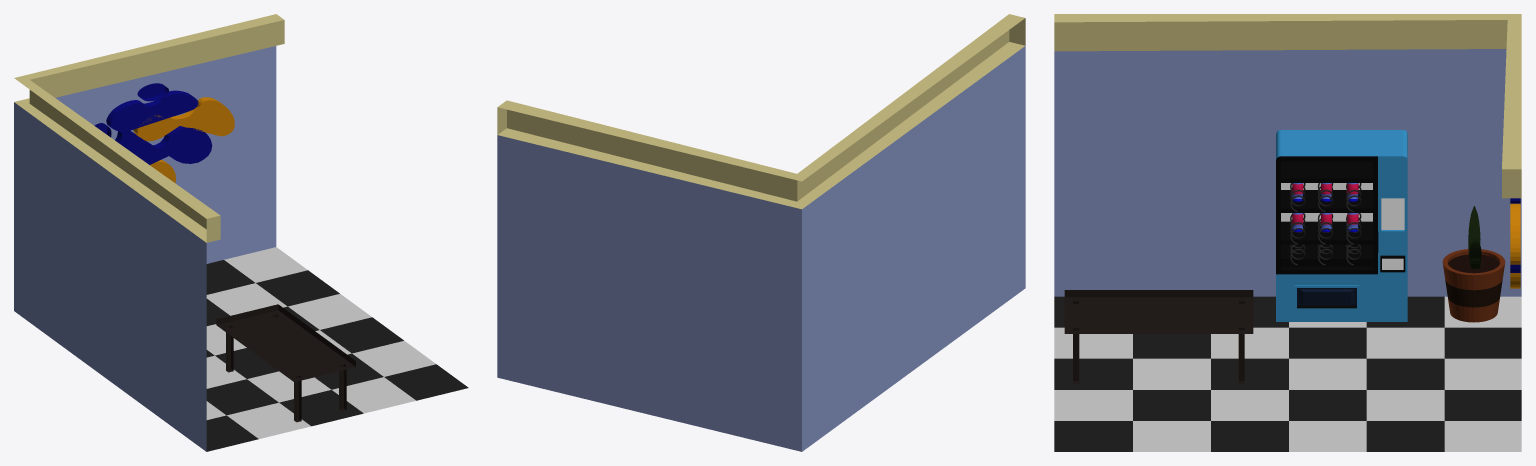
File: Allanim0016.obj
3 renders of one model, left to right at view 1: azimuth 30°, elevation 25°; view 2: azimuth 150°, elevation 25°; view 3: azimuth 270°, elevation 25°, orthographic. The views are drawn at different scales.
Parts seen in each view (by area): view 1: ruangan_Cube.003, meja_Cube.004, logo.001_Circle.019, logo_Circle.006, logo.005_Circle.023; view 2: ruangan_Cube.003; view 3: ruangan_Cube.003, vending_machine_Cube.001, meja_Cube.004, pot_bunga_Cylinder, per_second\_Spiral.010, Plane.007, logo_Circle.006.
Part boxes in pixels (bbox=[...]): ruangan_Cube.003: bbox=[14, 14, 468, 451]; meja_Cube.004: bbox=[216, 304, 355, 422]; logo.001_Circle.019: bbox=[115, 126, 212, 164]; logo_Circle.006: bbox=[133, 97, 234, 141]; logo.005_Circle.023: bbox=[106, 90, 198, 133]; ruangan_Cube.003: bbox=[497, 14, 1025, 451]; ruangan_Cube.003: bbox=[1054, 14, 1521, 451]; vending_machine_Cube.001: bbox=[1276, 130, 1407, 321]; meja_Cube.004: bbox=[1064, 290, 1253, 383]; pot_bunga_Cylinder: bbox=[1442, 249, 1505, 322]; per_second\_Spiral.010: bbox=[1290, 183, 1361, 265]; Plane.007: bbox=[1468, 206, 1481, 268]; logo_Circle.006: bbox=[1510, 203, 1520, 264].
Size of the model in its own units: 11.73 by 9.95 by 14.9.
